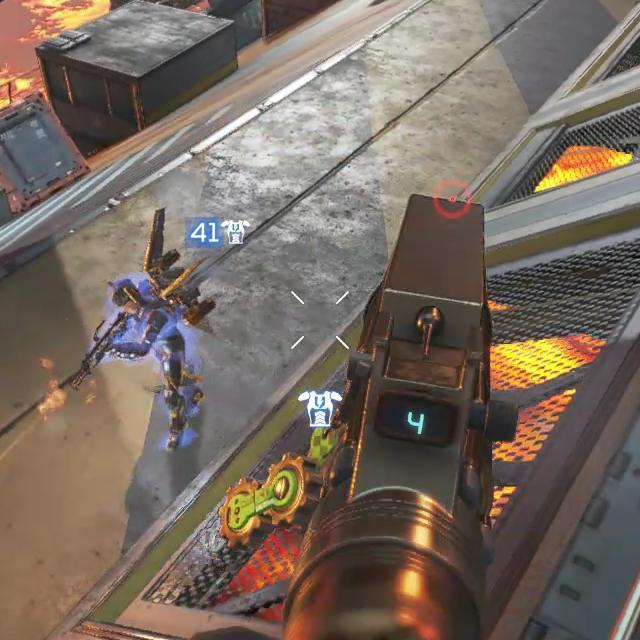avatar: (102, 276, 205, 451)
